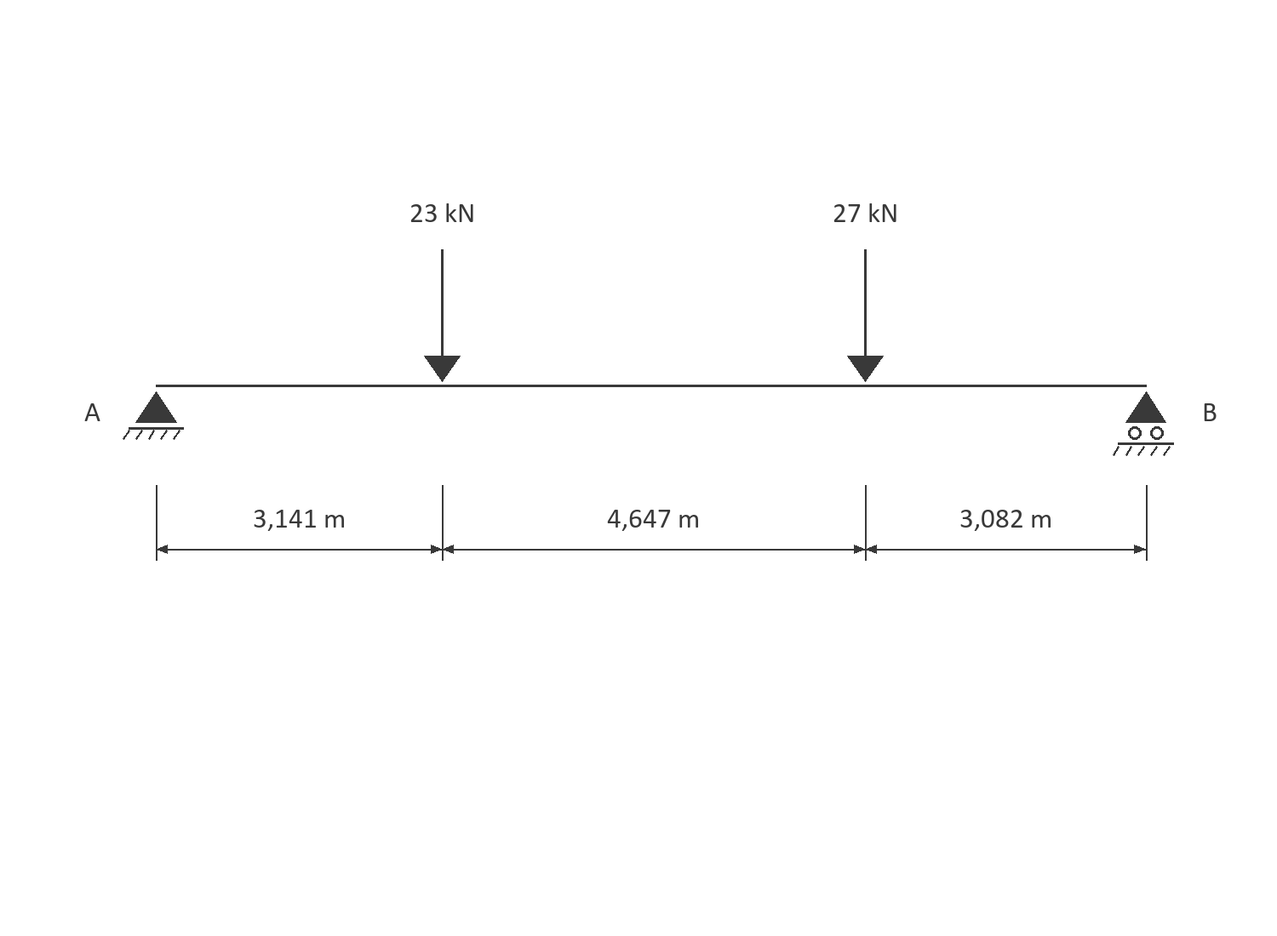pin_support: (123, 391, 184, 440)
point_load: (424, 249, 461, 382), (847, 249, 884, 382)
roller_support: (1113, 391, 1174, 456)
